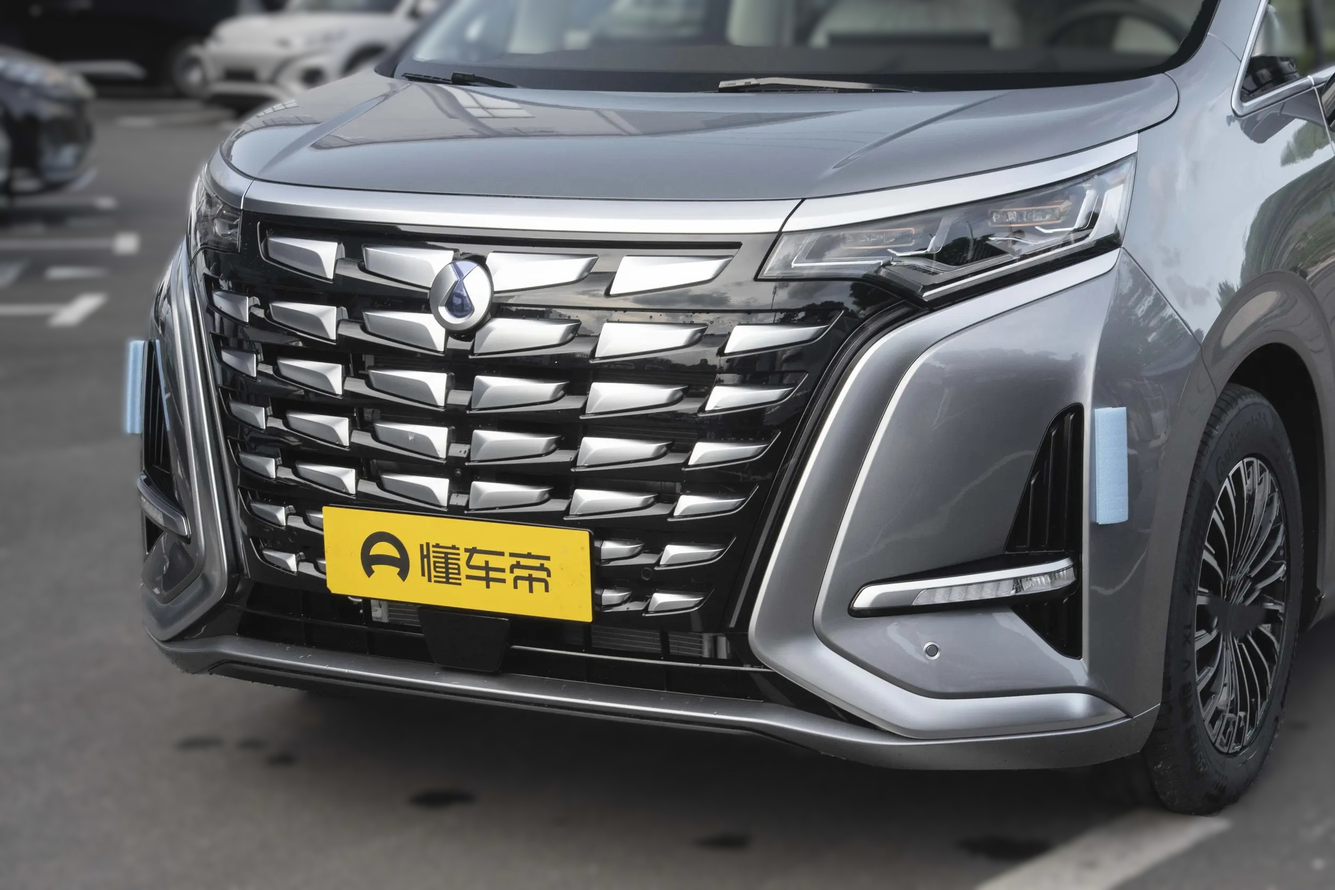DENZA: (431, 261, 490, 330)
